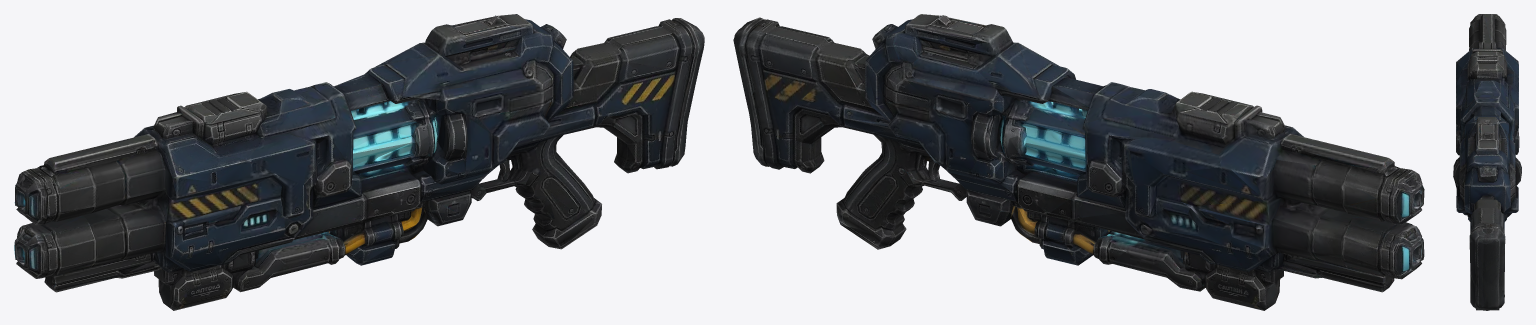
Rendered from gun_shotgun_opt.glb.
The picture shows the model from 3 angles, left to right: view 1: azimuth 30°, elevation 25°; view 2: azimuth 150°, elevation 25°; view 3: azimuth 270°, elevation 25°; orthographic projection. The views are drawn at different scales.
Parts seen in each view (by area): view 1: mesh_node; view 2: mesh_node; view 3: mesh_node.
Boxes of the visible parts, box(x1,y1,x2,y2) form: mesh_node: box(14, 14, 704, 310); mesh_node: box(733, 14, 1424, 310); mesh_node: box(1453, 14, 1521, 310).
Size of the model in its own units: 1.9 by 0.6414 by 0.254.
1 material, 1 textured.
